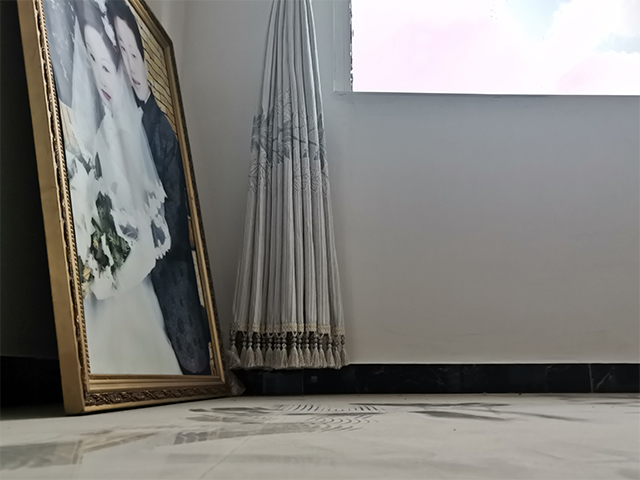curtain: (225, 1, 352, 376)
